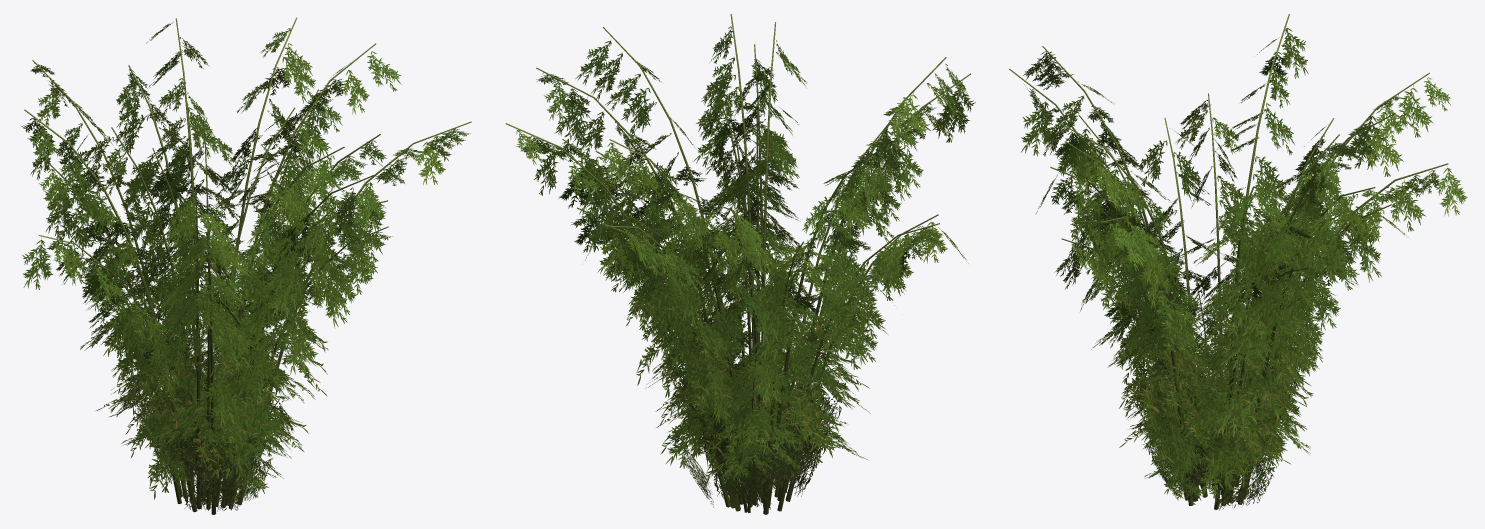
File: bamboo.glb
3 views of the same model, side by side, from view 1: azimuth 30°, elevation 25°; view 2: azimuth 150°, elevation 25°; view 3: azimuth 270°, elevation 25° (orthographic). The views are drawn at different scales.
Visible parts, largest first — view 1: bamboo_leaves, bamboo_culms; view 2: bamboo_leaves, bamboo_culms; view 3: bamboo_leaves, bamboo_culms.
Boxes of the visible parts, bbox=[...] form: bamboo_leaves: bbox=[21, 21, 470, 511]; bamboo_culms: bbox=[24, 17, 471, 514]; bamboo_leaves: bbox=[516, 26, 975, 509]; bamboo_culms: bbox=[505, 14, 970, 514]; bamboo_leaves: bbox=[1021, 27, 1467, 510]; bamboo_culms: bbox=[1009, 14, 1448, 509].
Bounding box in the file's own units: 12.4 × 11.26 × 11.46.
Materials: 2 (2 with a texture image).
